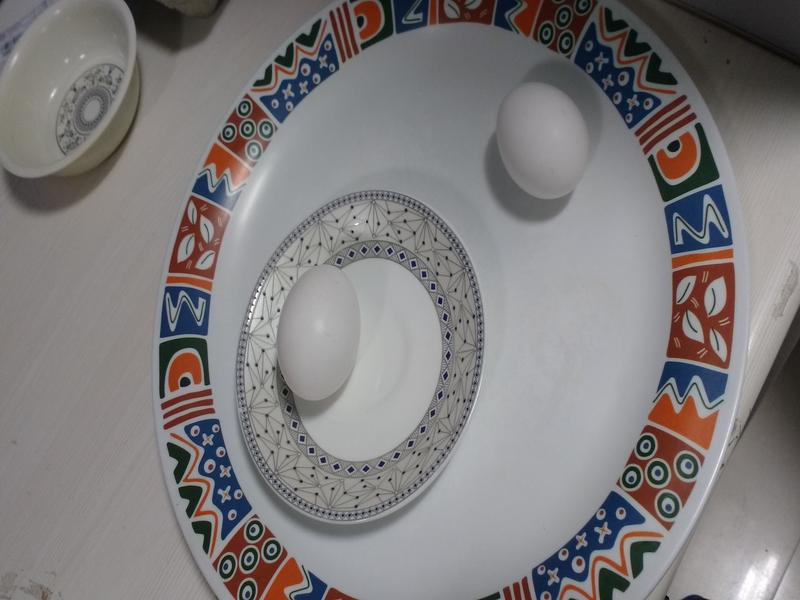egg: (273, 263, 358, 406)
